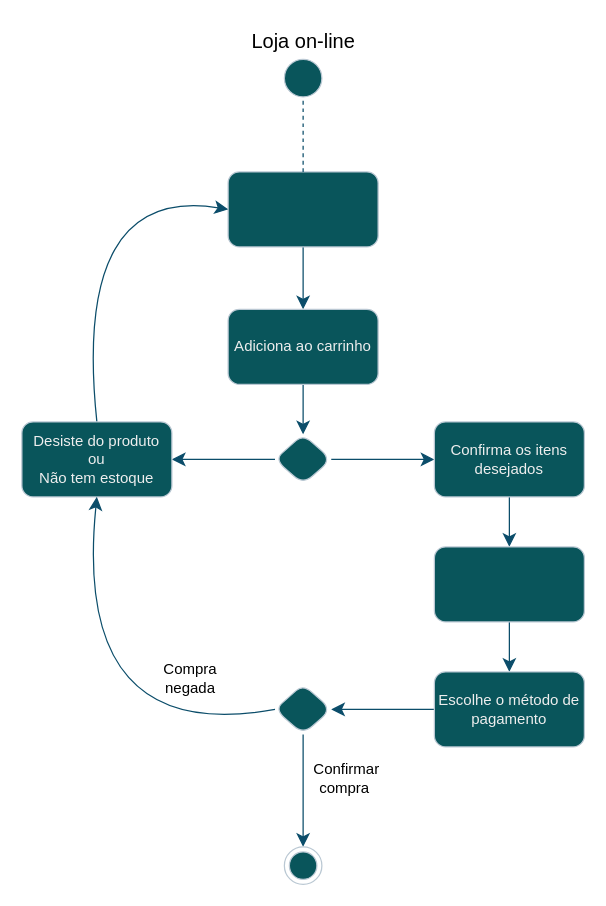
Image size: 606x906. Some labels were removed from this diagram. Here are the shapes that lost their labels. From the top down, the box of each, then its label:
(227, 171, 378, 247): Escolhe o produto de seu interesse
(433, 546, 584, 622): Confirma o endereço da entrega
